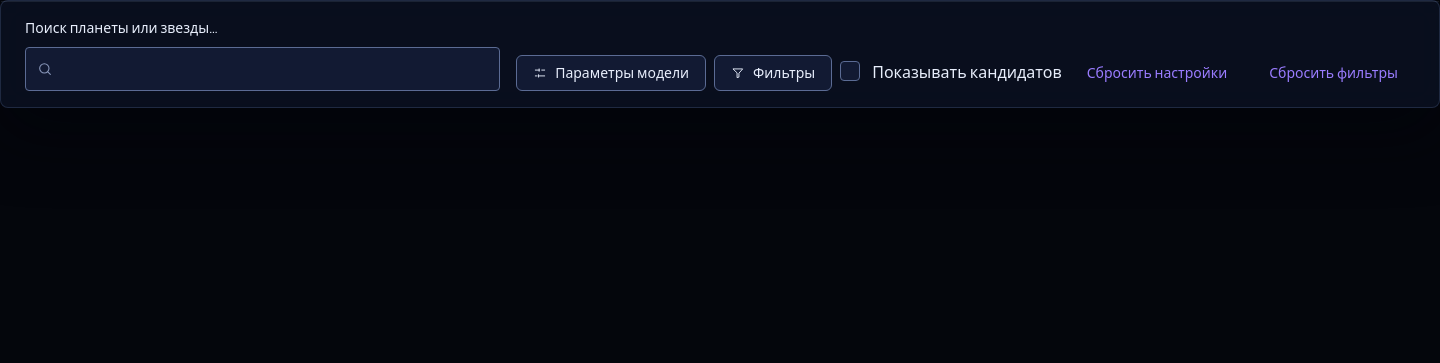
Test: поиск › находит планеты системы, ставит совпадения по имени первыми и помечает планеты вне Топ-50
The width and height of the screenshot is (1440, 363).
Step 1. Type "trappist1" into the dropdown labelled "Поиск планеты или звезды…" → (263, 69), box x1=25 y1=47 x2=500 y2=91
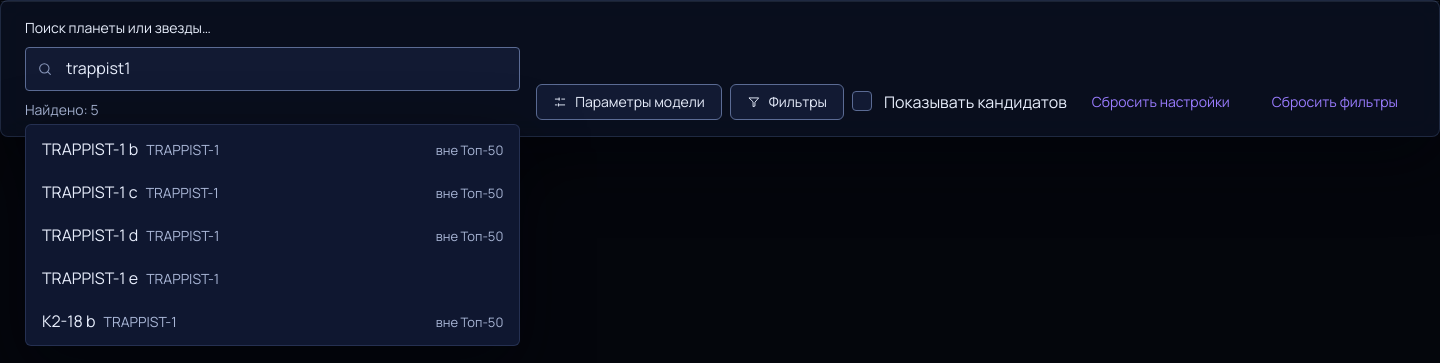
expect the number of options is 5: met, box x1=42 y1=138 x2=503 y2=160; x1=42 y1=181 x2=503 y2=203; x1=42 y1=224 x2=503 y2=246; x1=42 y1=267 x2=219 y2=289; x1=42 y1=310 x2=503 y2=332
expect the option "TRAPPIST-1 b TRAPPIST-1 вне Топ-50" is shown: met, box x1=42 y1=138 x2=503 y2=160
expect the option "TRAPPIST-1 c TRAPPIST-1 вне Топ-50" is shown: met, box x1=42 y1=181 x2=503 y2=203
